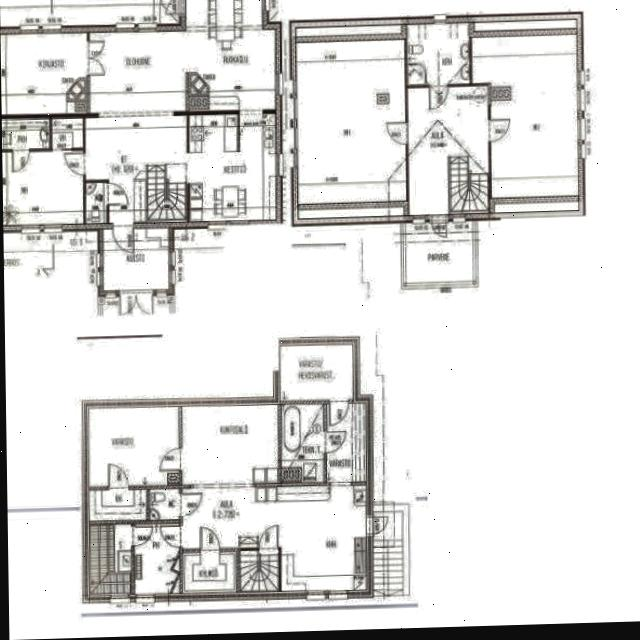room: (296, 39, 407, 204), (472, 35, 579, 198), (1, 33, 88, 116), (89, 407, 179, 487), (1, 150, 86, 226), (103, 228, 169, 291), (280, 344, 354, 400), (406, 23, 471, 85), (281, 404, 324, 482), (135, 523, 179, 594), (327, 403, 366, 482), (90, 524, 132, 595), (182, 552, 237, 593), (89, 490, 147, 521), (1, 117, 51, 150), (52, 117, 83, 149), (149, 488, 180, 520), (86, 182, 107, 224)
